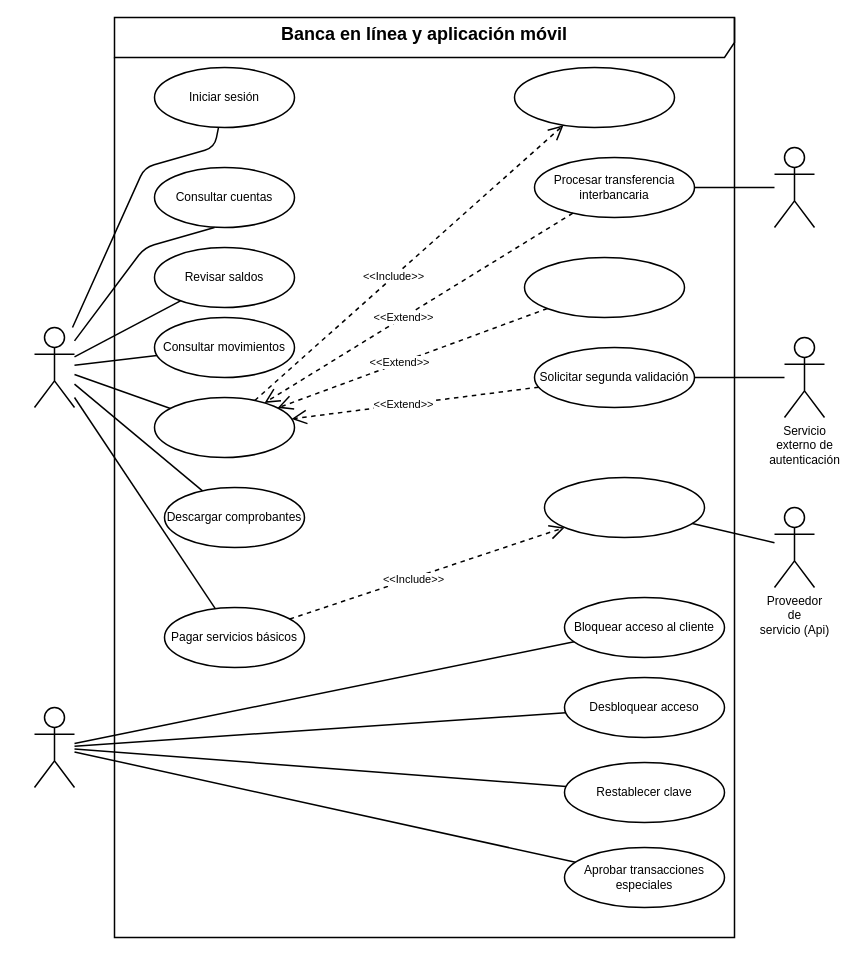
This 858x956 diagram has some shape labels left out. The centre of each missing label's shape, as x and y in pixels:
"Cliente" belongs at [54,367].
"Consultar deuda pendiente" belongs at [624,507].
"Personal administrativo" belongs at [54,747].
"Realizar transferencias" belongs at [224,427].
"Seleccionar cuenta de origen" belongs at [594,97].
"Sistema interbancario externo" belongs at [794,187].
"Validar transferencia de alto monto" belongs at [604,287].
